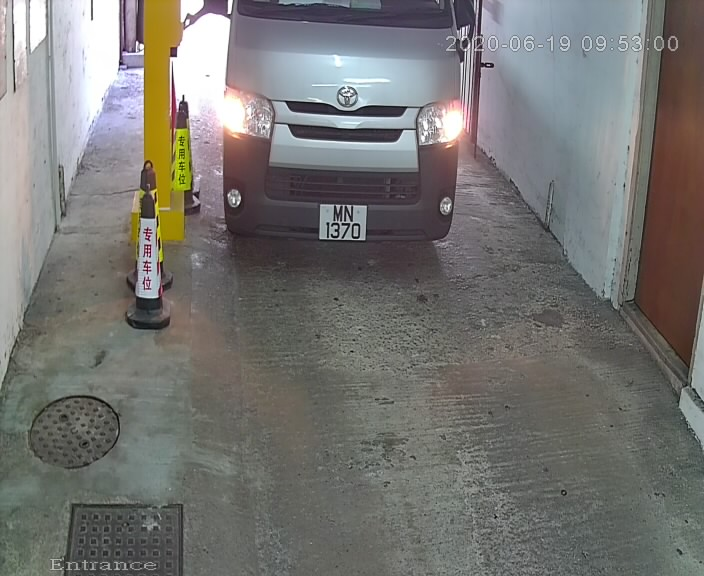privatecar: (200, 3, 500, 281)
